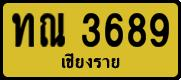letters: (39, 12, 67, 48), (11, 12, 36, 48), (149, 11, 170, 49), (80, 12, 101, 48), (103, 12, 124, 48), (127, 12, 147, 49)
province: (60, 51, 121, 70)
